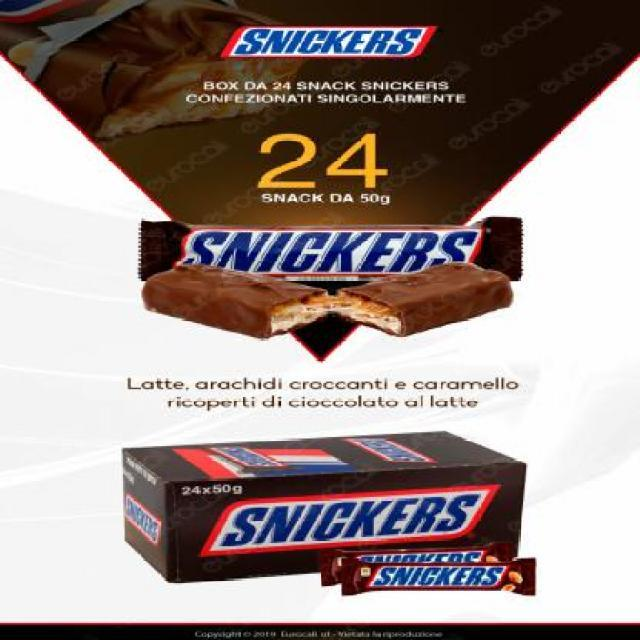Chocolate bar: (136, 213, 535, 281), (338, 554, 544, 598)
Chocolate bar packaged: (130, 258, 538, 342)
